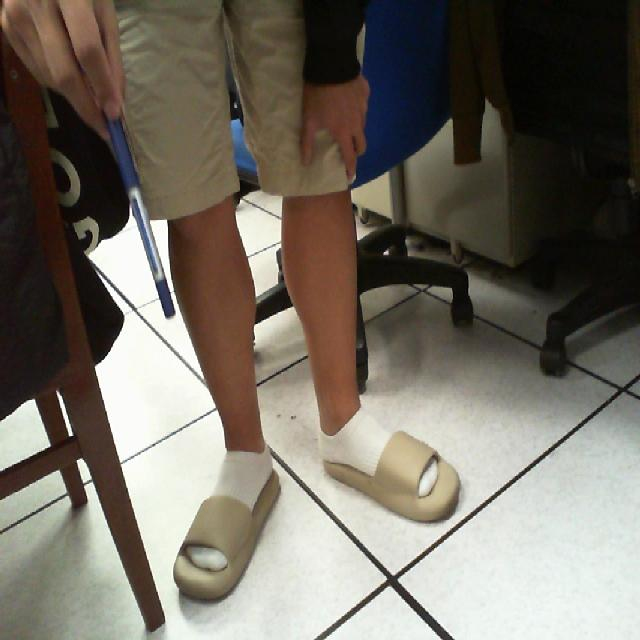Pen: (84, 72, 200, 361)
